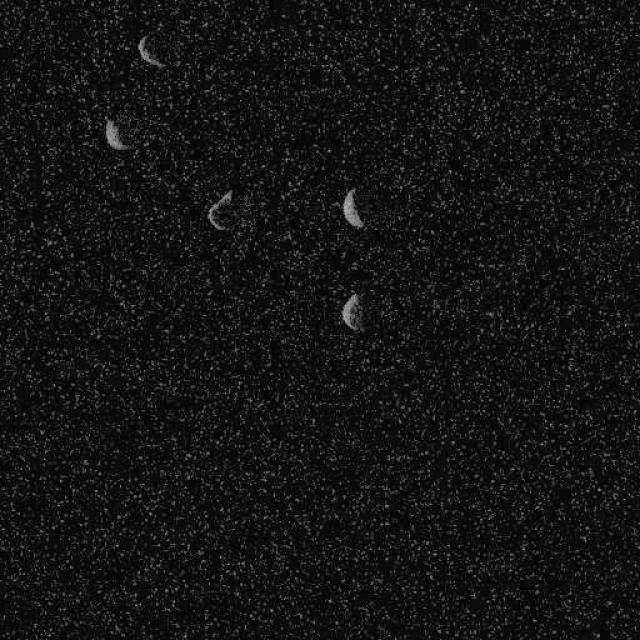D2: (206, 189, 234, 231), (104, 116, 134, 152), (341, 186, 364, 229), (136, 34, 165, 68), (340, 291, 362, 331)
